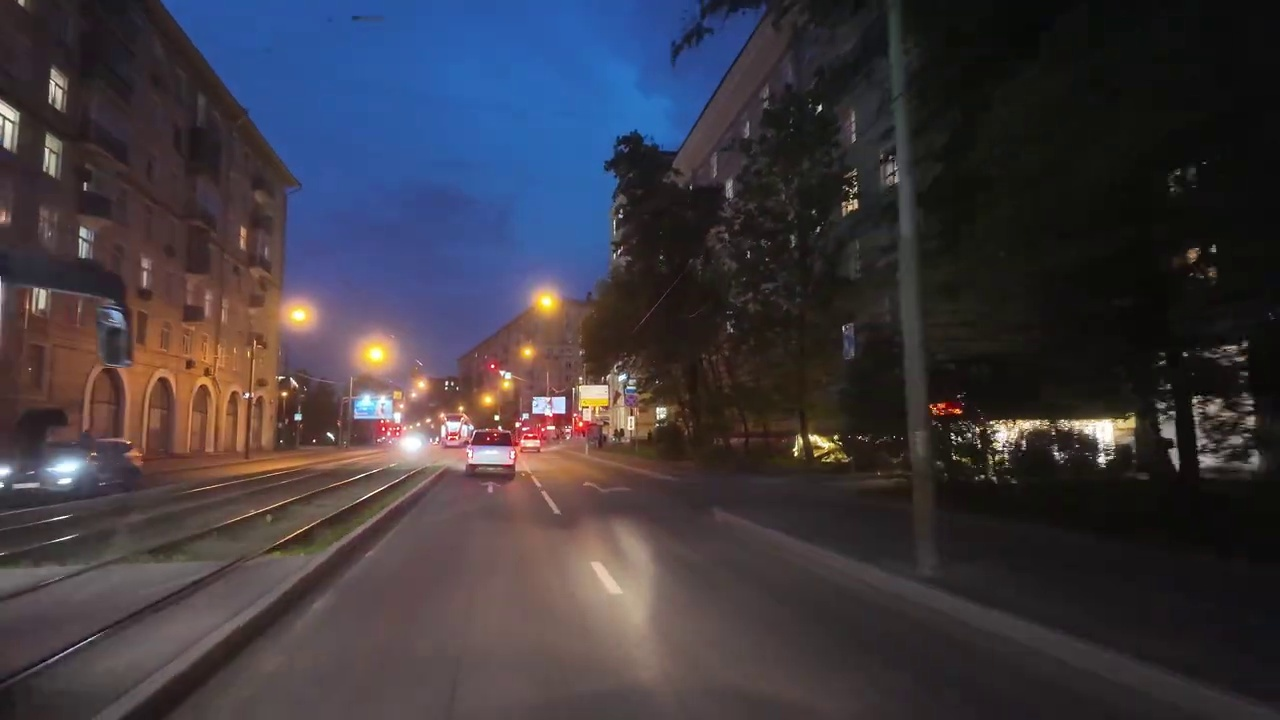acesa: (356, 338, 392, 370), (283, 300, 318, 331), (530, 287, 563, 318), (516, 343, 539, 363)
